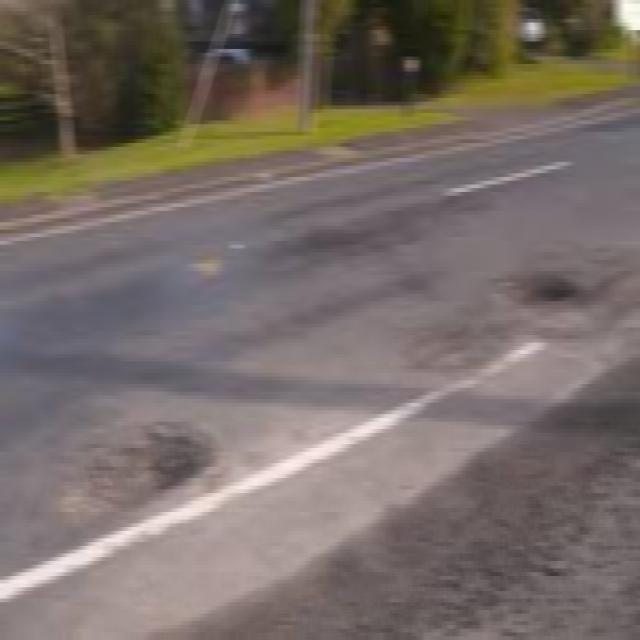Pothole: (61, 408, 225, 516), (490, 261, 596, 314)
